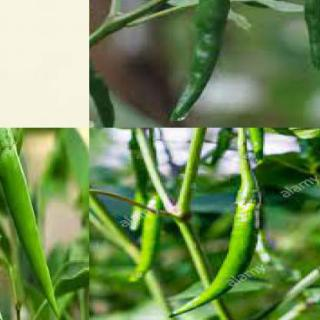green_chilli: (165, 154, 268, 318), (0, 145, 68, 319), (163, 0, 238, 122), (126, 195, 172, 281), (89, 0, 113, 127), (118, 141, 151, 229), (297, 0, 319, 72), (239, 128, 274, 163)
